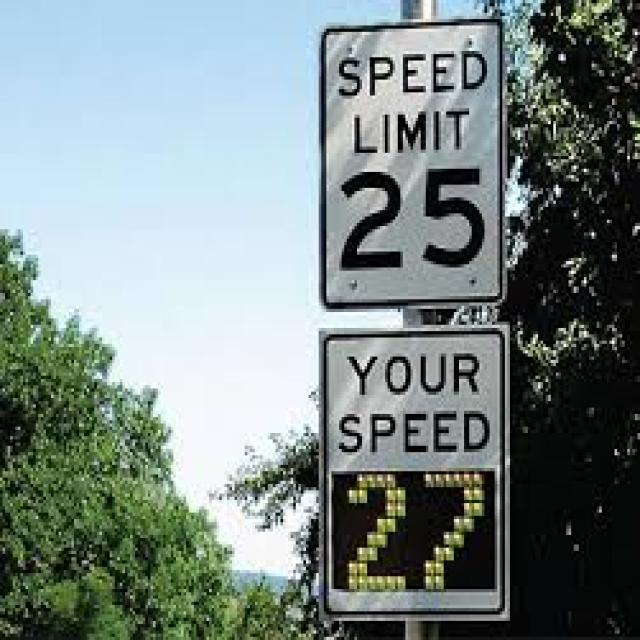Speed Limit Signs: (313, 13, 514, 315)
